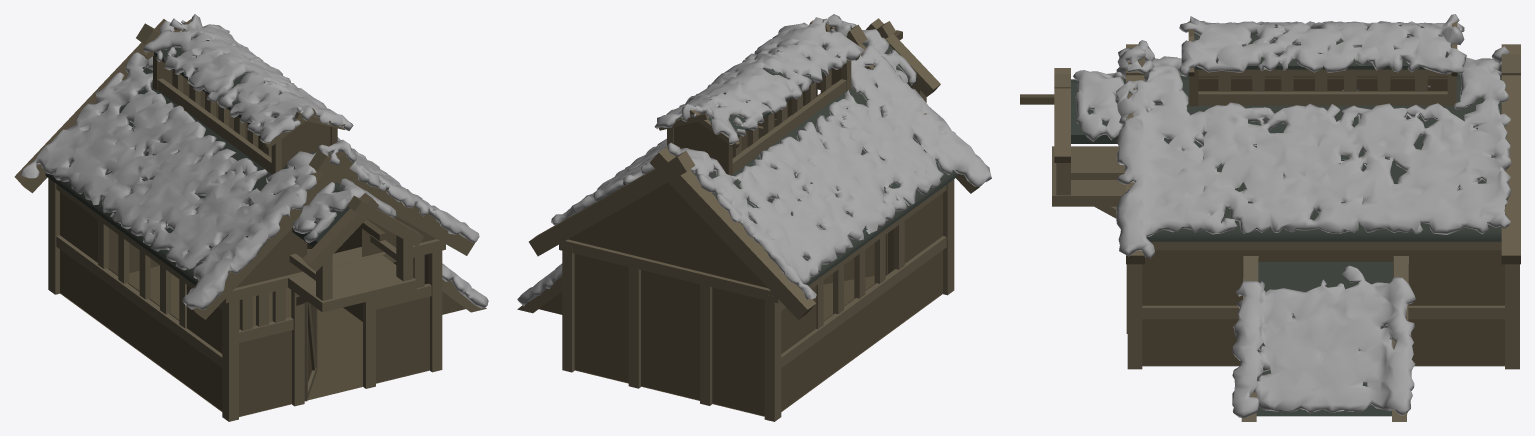
Rendered from maison_neige.fbx.
The picture shows the model from 3 angles, left to right: view 1: azimuth 30°, elevation 25°; view 2: azimuth 150°, elevation 25°; view 3: azimuth 270°, elevation 25°; orthographic projection. The views are drawn at different scales.
Parts seen in each view (by area): view 1: maison_viking, neige_toit; view 2: maison_viking, neige_toit; view 3: neige_toit, maison_viking.
Boxes of the visible parts, x1,y1,x2,y2 form: maison_viking: (14,19,486,421); neige_toit: (21,14,488,309); maison_viking: (517,18,979,421); neige_toit: (517,14,991,306); neige_toit: (1073,14,1511,418); maison_viking: (1020,22,1520,421).
Size of the model in its own units: 103 by 75.73 by 117.
